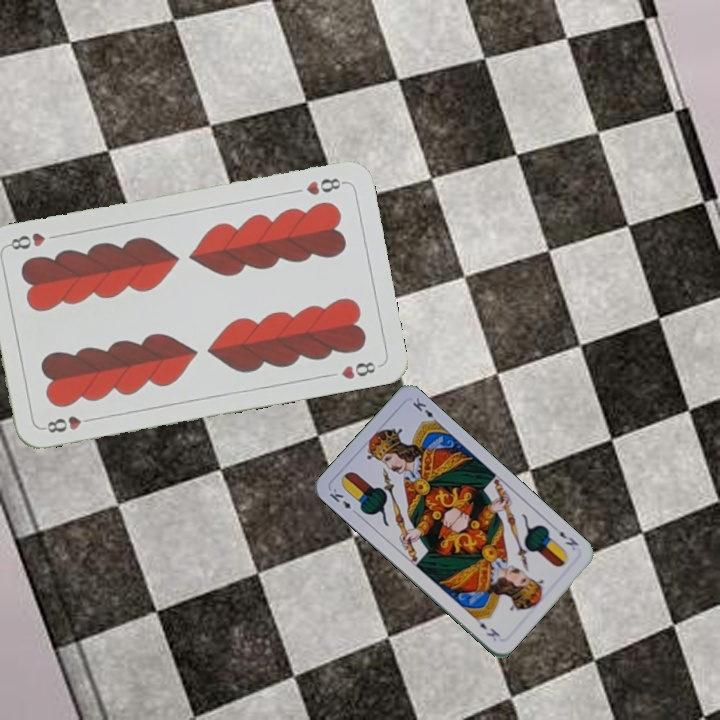EK: (325, 484, 360, 517), (555, 527, 581, 548)
H8: (38, 412, 97, 436), (302, 174, 348, 198)
